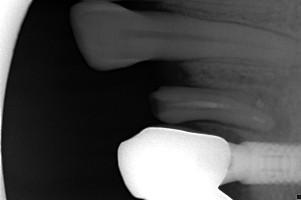Furcation Involvement: (237, 88, 291, 143)
